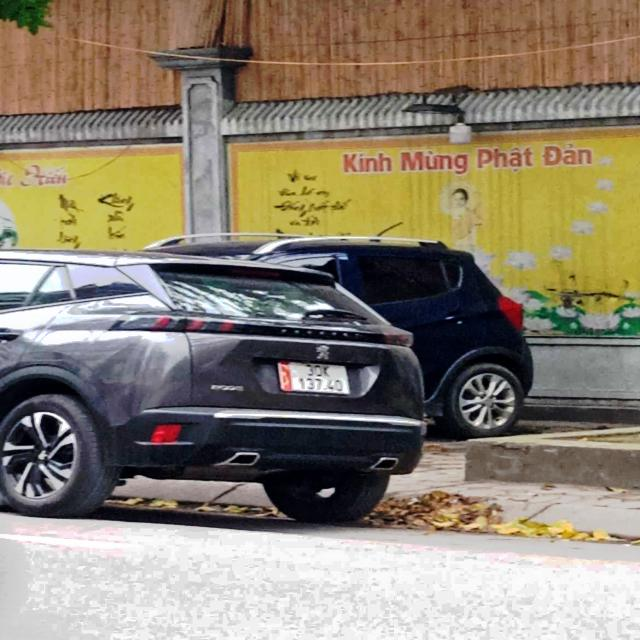license_plate: (279, 359, 354, 395)
